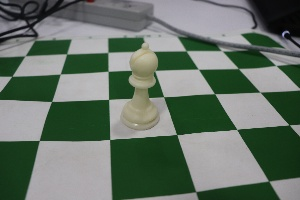white_bishop: (115, 33, 167, 133)
